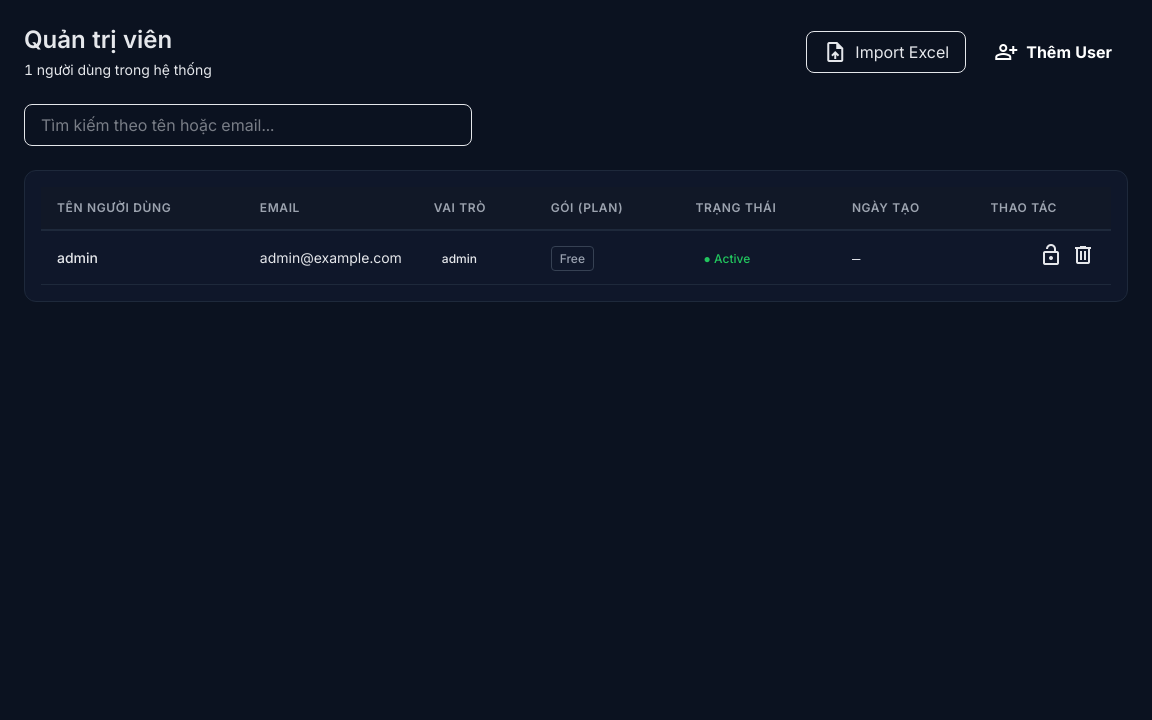
UserManager › should open modal for new user
The image size is (1152, 720).
Expected: the text "admin@example.com" is shown, [244, 230, 418, 284]
Click the button "Thêm User" at [1053, 52], box [978, 31, 1128, 73]
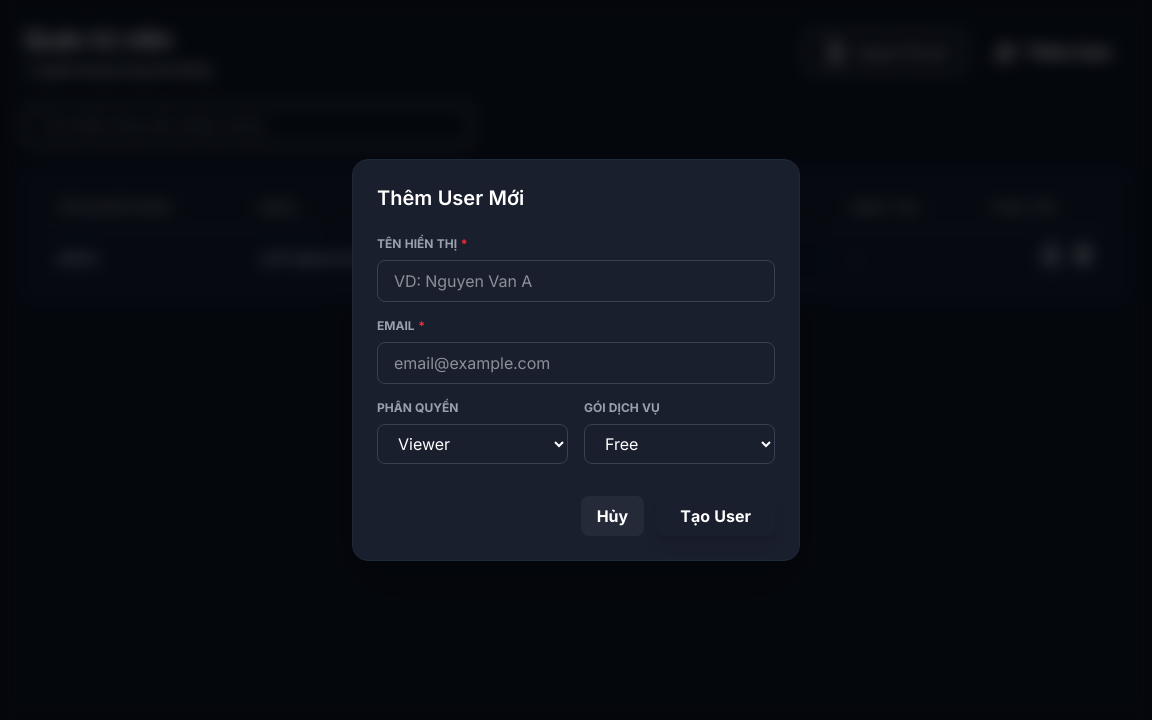
Expected: the heading "Thêm User Mới" is shown, [377, 186, 524, 210]
